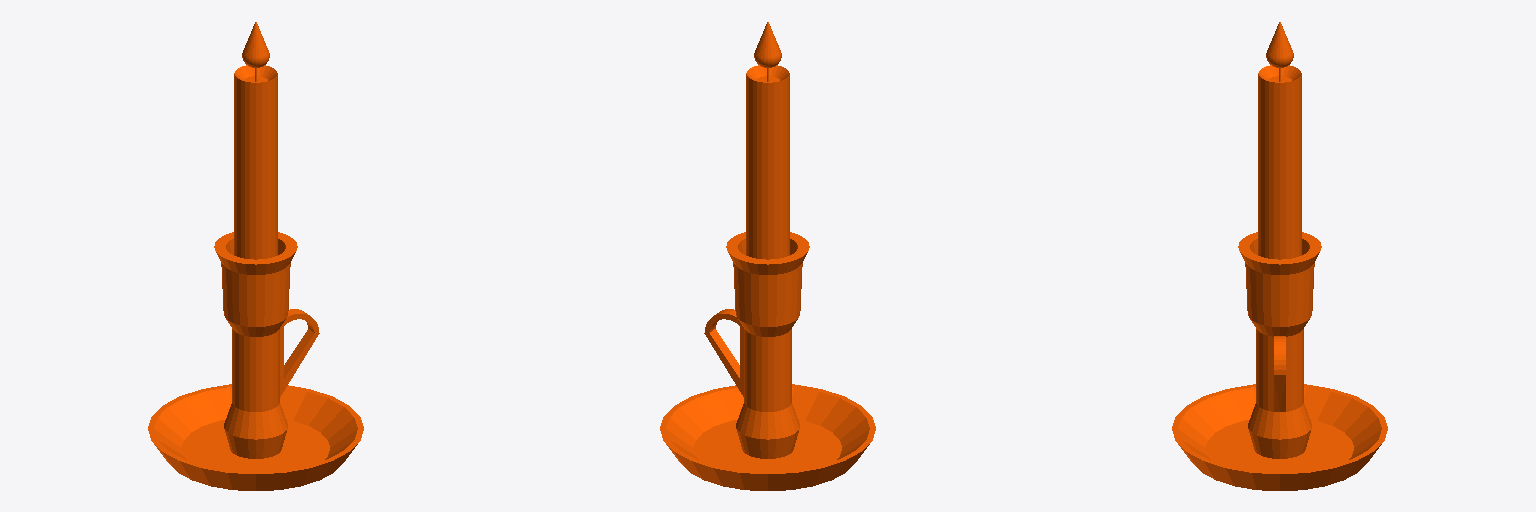
The robot description file, URDF, robot "Candle_b0418c8505a97735724d496149e70261":
<?xml version="1.0" ?>
<robot name="Candle_b0418c8505a97735724d496149e70261">
   <material name="obj_color">
      <color rgba="1.0 0.423529411765 0.0392156862745 1.0"/>
   </material>
   <link name="top">
      <inertial>
         <origin rpy="5.538064218385738e-05 0.0001728778093283718 0.000172877839752663" xyz="-0.0005044988841064733 9.227868804718326e-05 -0.01329094327059117"/>
         <mass value="0.1721394757064463"/>
         <inertia ixx="0.0001728778093532243" ixy="-8.691922284224217e-13" ixz="-2.006072366266511e-12" iyy="0.0001728778397270561" iyz="2.977253511506875e-10" izz="5.538064218461187e-05"/>
      </inertial>
      <visual>
         <origin rpy="0 0 0" xyz="0 0 0"/>
         <geometry>
            <mesh filename="top_watertight_tiny.stl" scale="1 1 1"/>
         </geometry>
         <material name="obj_color"/>
      </visual>
      <collision>
         <origin rpy="0 0 0" xyz="0 0 0"/>
         <geometry>
            <mesh filename="top_watertight_tiny.obj" scale="1 1 1"/>
         </geometry>
      </collision>
   </link>
   <link name="bottom">
      <inertial>
         <origin rpy="1.633333333199431e-08 1.633333333199431e-08 1.633333333362855e-08" xyz="0.3464080000000008 0.3464080000000008 0.3464080000000008"/>
         <mass value="0.0009800000000000017"/>
         <inertia ixx="1.633333333253906e-08" ixy="5.447480642029219e-19" ixz="5.447480642029219e-19" iyy="1.633333333253906e-08" iyz="5.447480642029219e-19" izz="1.633333333253906e-08"/>
      </inertial>
      <visual>
         <origin rpy="0 0 0" xyz="0 0 0"/>
         <geometry>
            <mesh filename="bottom_watertight_tiny.stl" scale="1 1 1"/>
         </geometry>
         <material name="obj_color"/>
      </visual>
   </link>
   <joint name="rotation" type="revolute">
      <origin xyz="0 0 0"/>
      <axis xyz="0 0 -1"/>
      <parent link="bottom"/>
      <child link="top"/>
      <dynamics damping="1.0" friction="1.0"/>
      <limit effort="0.1" velocity="0.1" lower="0" upper="0.001"/>
   </joint>
</robot>

--- What the picture shows (computed from the rendered views, not written in the file) ---
The picture shows the robot from 3 angles, left to right: view 1: azimuth 30°, elevation 25°; view 2: azimuth 150°, elevation 25°; view 3: azimuth 270°, elevation 25°; orthographic projection.
Robot: Candle_b0418c8505a97735724d496149e70261 — 2 links, 1 joints (1 revolute); root link bottom; default pose: all joints at 0.
Links seen in each view (by area): view 1: top; view 2: top; view 3: top.
Link boxes in pixels (x1=…): top: x1=148, y1=22, x2=363, y2=490; top: x1=660, y1=22, x2=875, y2=490; top: x1=1172, y1=22, x2=1387, y2=490.
Size in the robot's own frame: 0.0641 by 0.0641 by 0.1414 metres.
1 mesh visuals loaded from 2 distinct referenced files (1 binary STL); not drawn: 1 (reference not matched to a file when rendering).
